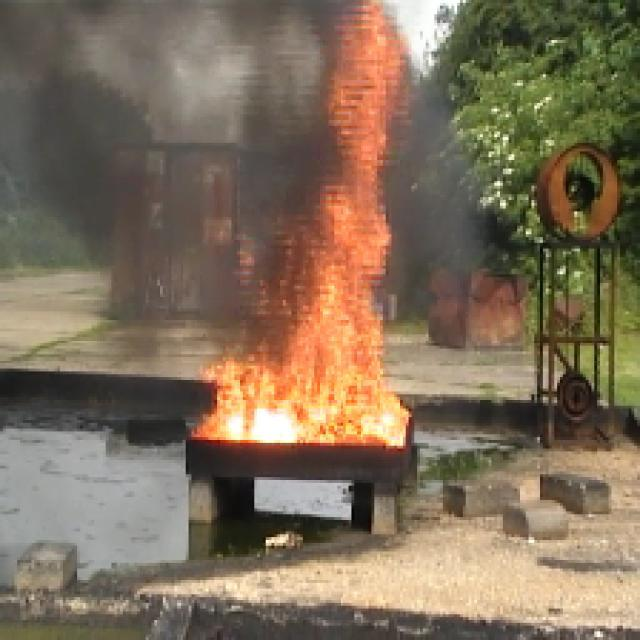Fire: (300, 19, 396, 334), (196, 342, 402, 440)
Smoke: (67, 0, 275, 298), (406, 103, 456, 300)
